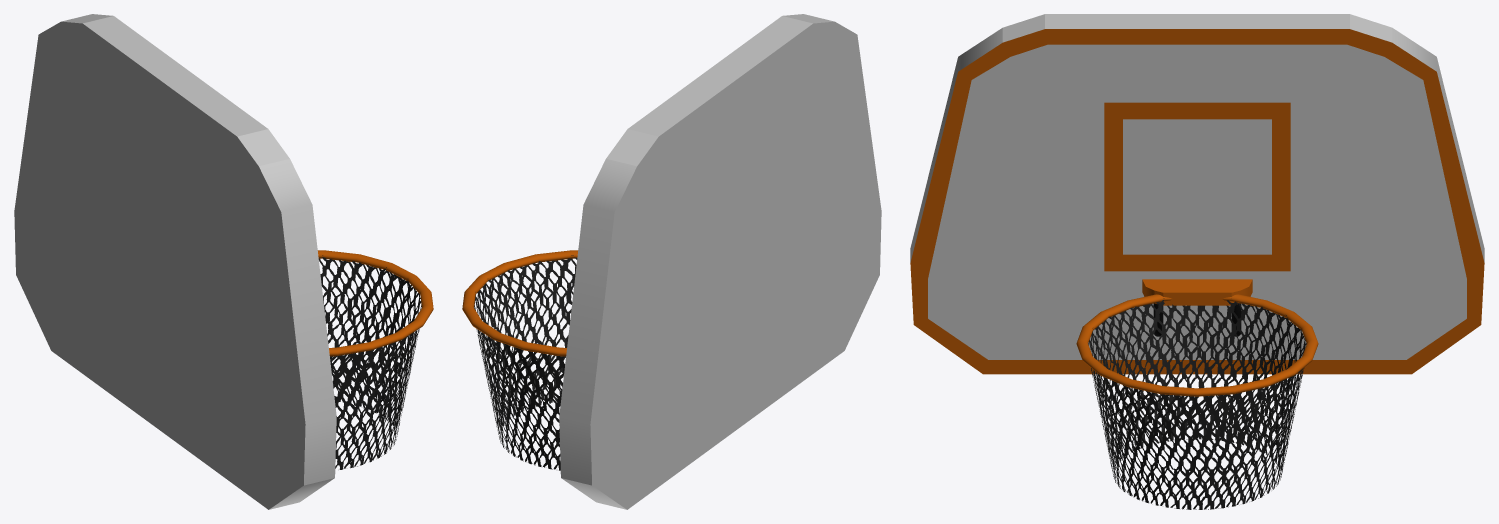
Rendered from Backboard and Hoop.fbx.
3 views of the same model, side by side, from view 1: azimuth 30°, elevation 25°; view 2: azimuth 150°, elevation 25°; view 3: azimuth 270°, elevation 25° (orthographic).
Visible parts, largest first — view 1: polySurface8; view 2: polySurface8; view 3: polySurface8.
Boxes of the visible parts, left/top/right/bottom form: polySurface8: left=14, top=14, right=433, bottom=509; polySurface8: left=462, top=14, right=881, bottom=509; polySurface8: left=910, top=14, right=1484, bottom=509.
Bounding box in the file's own units: 78.84 × 115 × 154.
Materials: 4 (1 with a texture image).
